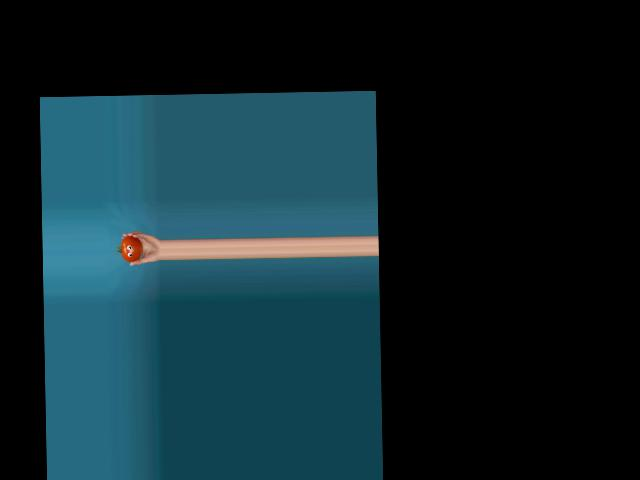tomato: (120, 235, 143, 262)
